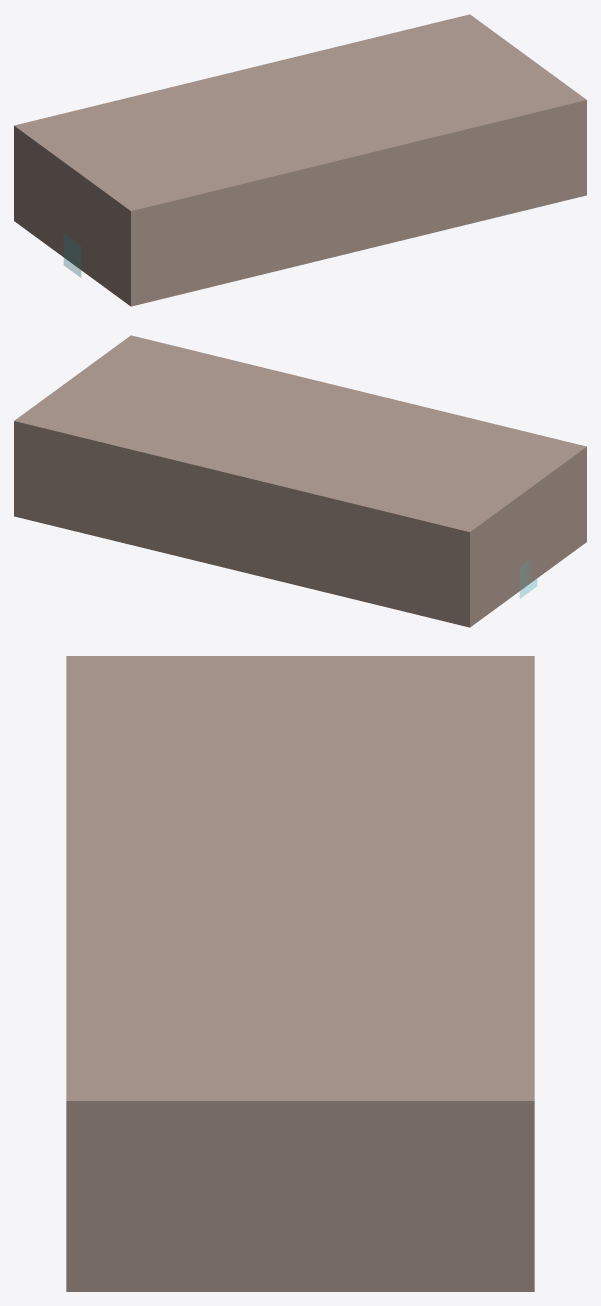
The model's file is rack-drawer-900.glb.
The picture shows the model from 3 angles, top to bottom: view 1: azimuth 30°, elevation 25°; view 2: azimuth 150°, elevation 25°; view 3: azimuth 270°, elevation 25°; orthographic projection. The views are drawn at different scales.
Visible parts, largest first — view 1: body, md-snap.shelf-level.mount; view 2: body; view 3: body.
Part boxes in pixels (x1,y1,x2,y2): body: [14, 14, 586, 306]; md-snap.shelf-level.mount: [64, 234, 80, 277]; body: [14, 335, 586, 627]; body: [66, 656, 534, 1291].
Size of the model in its own units: 0.9 by 0.195 by 0.4.
